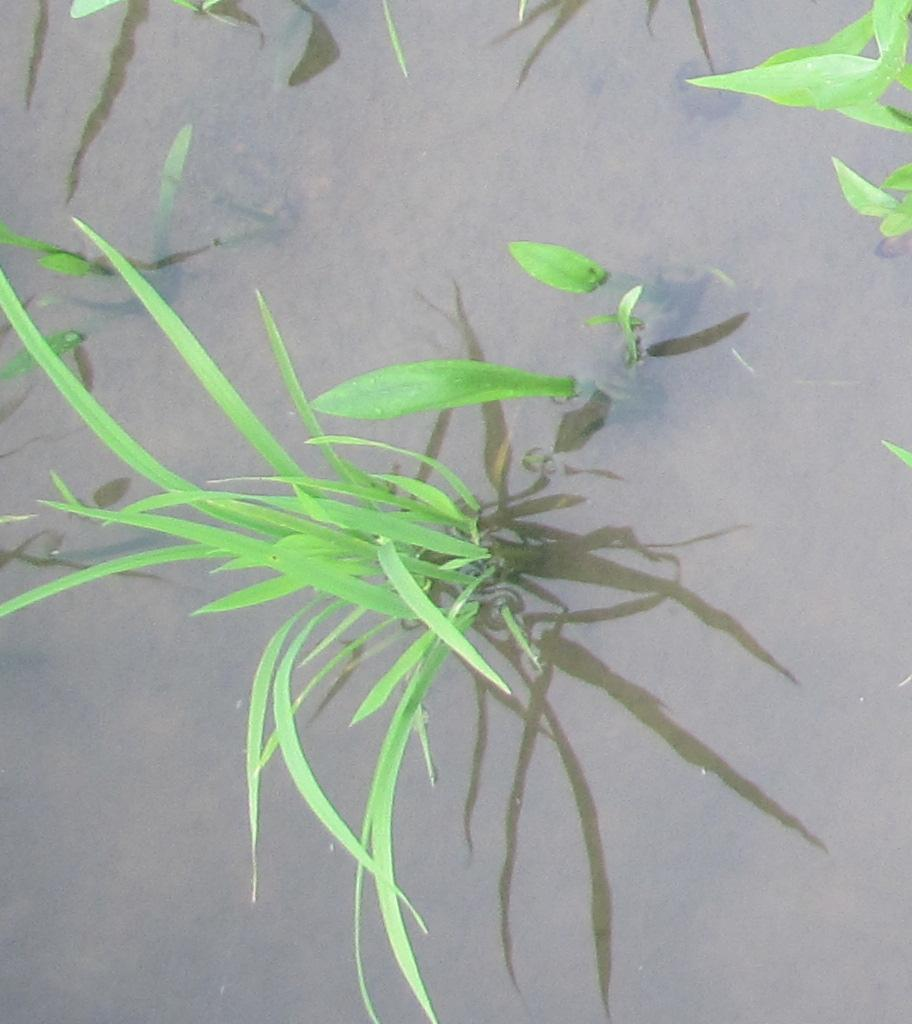Weed: (687, 33, 912, 135), (300, 355, 586, 417)
